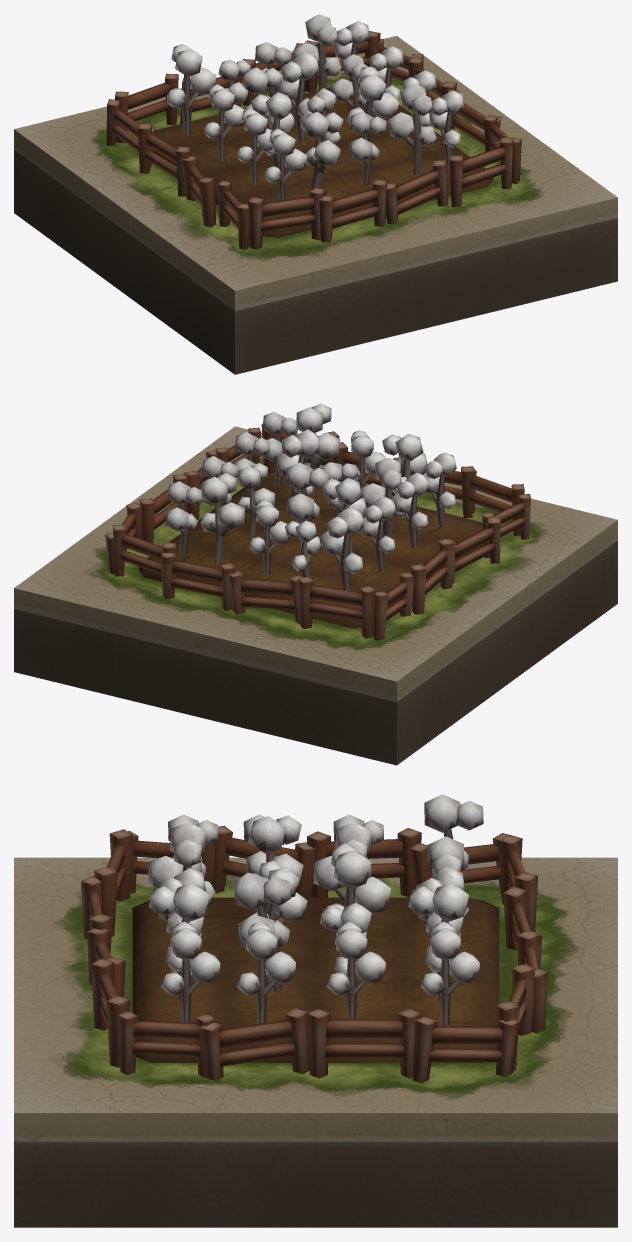
The model's file is BO_Sin1_Cotton.FBX.
The picture shows the model from 3 angles, top to bottom: view 1: azimuth 30°, elevation 25°; view 2: azimuth 150°, elevation 25°; view 3: azimuth 270°, elevation 25°; orthographic projection. The views are drawn at different scales.
Visible parts, largest first — view 1: BO_Sin1_Cotton_ground, BO_Sin1_Cotton013, BO_Sin1_Cotton004, BO_Sin1_Cotton005, BO_Sin1_Cotton011, BO_Sin1_Cotton016, BO_Sin1_Cotton014, BO_Sin1_Cotton001, BO_Sin1_Cotton003, BO_Sin1_Cotton009, BO_Sin1_Cotton017, BO_Sin1_Cotton002 (+9 smaller); view 2: BO_Sin1_Cotton_ground, BO_Sin1_Cotton016, BO_Sin1_Cotton004, BO_Sin1_Cotton011, BO_Sin1_Cotton013, BO_Sin1_Cotton012, BO_Sin1_Cotton020, BO_Sin1_Cotton002, BO_Sin1_Cotton003, BO_Sin1_Cotton006, BO_Sin1_Cotton014, BO_Sin1_Cotton001 (+9 smaller); view 3: BO_Sin1_Cotton_ground, BO_Sin1_Cotton020, BO_Sin1_Cotton017, BO_Sin1_Cotton018, BO_Sin1_Cotton019, BO_Sin1_Cotton014, BO_Sin1_Cotton004, BO_Sin1_Cotton011, BO_Sin1_Cotton016, BO_Sin1_Cotton013, BO_Sin1_Cotton005, BO_Sin1_Cotton006 (+7 smaller).
Part boxes in pixels (left/top/right/bottom): BO_Sin1_Cotton_ground: left=14, top=31, right=617, bottom=374; BO_Sin1_Cotton013: left=387, top=83, right=436, bottom=174; BO_Sin1_Cotton004: left=167, top=44, right=216, bottom=136; BO_Sin1_Cotton005: left=302, top=111, right=343, bottom=189; BO_Sin1_Cotton011: left=277, top=52, right=319, bottom=143; BO_Sin1_Cotton016: left=292, top=14, right=341, bottom=91; BO_Sin1_Cotton014: left=347, top=66, right=399, bottom=140; BO_Sin1_Cotton001: left=265, top=128, right=307, bottom=200; BO_Sin1_Cotton003: left=204, top=84, right=244, bottom=161; BO_Sin1_Cotton009: left=349, top=111, right=386, bottom=186; BO_Sin1_Cotton017: left=429, top=90, right=464, bottom=166; BO_Sin1_Cotton002: left=237, top=108, right=272, bottom=185; BO_Sin1_Cotton_ground: left=14, top=423, right=617, bottom=765; BO_Sin1_Cotton016: left=200, top=473, right=244, bottom=564; BO_Sin1_Cotton004: left=320, top=507, right=363, bottom=590; BO_Sin1_Cotton011: left=286, top=462, right=329, bottom=550; BO_Sin1_Cotton013: left=296, top=403, right=339, bottom=494; BO_Sin1_Cotton012: left=249, top=499, right=290, bottom=576; BO_Sin1_Cotton020: left=165, top=481, right=202, bottom=556; BO_Sin1_Cotton002: left=391, top=472, right=428, bottom=548; BO_Sin1_Cotton003: left=360, top=497, right=395, bottom=572; BO_Sin1_Cotton006: left=361, top=457, right=404, bottom=537; BO_Sin1_Cotton014: left=276, top=429, right=319, bottom=522; BO_Sin1_Cotton001: left=423, top=452, right=456, bottom=528; BO_Sin1_Cotton_ground: left=14, top=825, right=617, bottom=1227; BO_Sin1_Cotton020: left=420, top=921, right=479, bottom=1026; BO_Sin1_Cotton017: left=161, top=921, right=220, bottom=1022; BO_Sin1_Cotton018: left=237, top=922, right=295, bottom=1023; BO_Sin1_Cotton019: left=327, top=922, right=385, bottom=1019; BO_Sin1_Cotton014: left=233, top=872, right=291, bottom=993; BO_Sin1_Cotton004: left=424, top=794, right=483, bottom=870; BO_Sin1_Cotton011: left=327, top=843, right=391, bottom=931; BO_Sin1_Cotton016: left=408, top=883, right=468, bottom=1004; BO_Sin1_Cotton013: left=149, top=883, right=209, bottom=1004; BO_Sin1_Cotton005: left=148, top=822, right=215, bottom=903; BO_Sin1_Cotton006: left=248, top=815, right=303, bottom=913.
Bounding box in the file's own units: 150 × 69.05 × 150.
